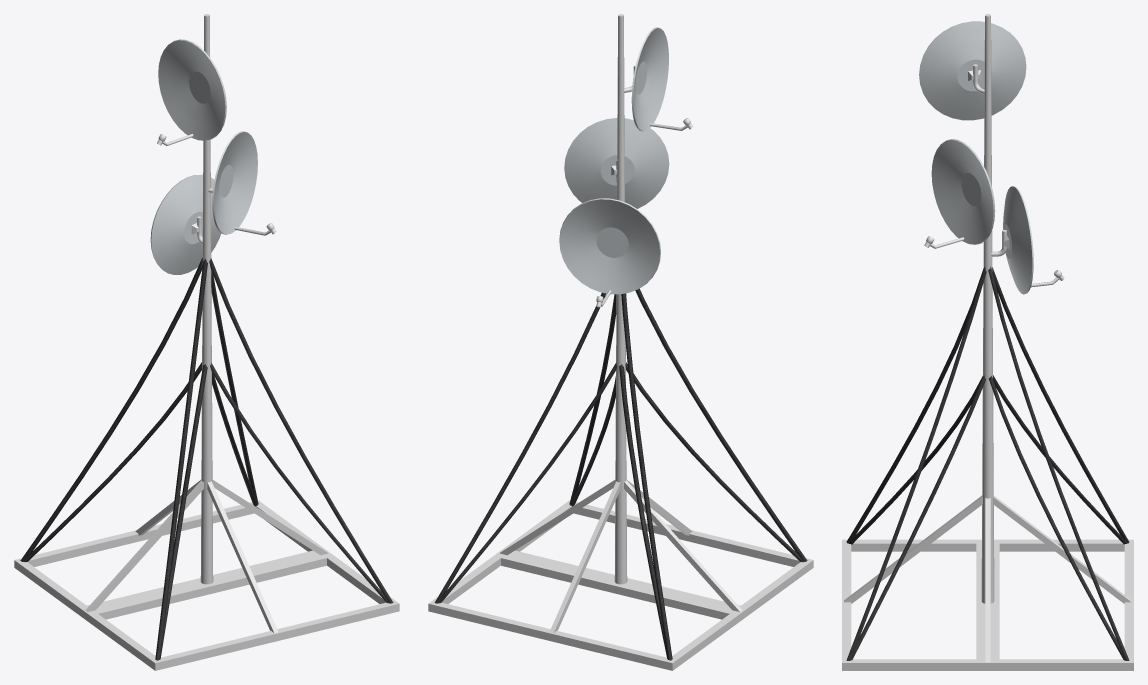
File: KB3D_NTT_RooftopPart_I.fbx
The picture shows the model from 3 angles, left to right: view 1: azimuth 30°, elevation 25°; view 2: azimuth 150°, elevation 25°; view 3: azimuth 270°, elevation 25°; orthographic projection. The views are drawn at different scales.
Parts seen in each view (by area): view 1: KB3D_NTT_RooftopPart_I_Main; view 2: KB3D_NTT_RooftopPart_I_Main; view 3: KB3D_NTT_RooftopPart_I_Main.
Boxes of the visible parts, left/top/right/bottom form: KB3D_NTT_RooftopPart_I_Main: left=14, top=14, right=399, bottom=670; KB3D_NTT_RooftopPart_I_Main: left=428, top=14, right=813, bottom=670; KB3D_NTT_RooftopPart_I_Main: left=842, top=14, right=1133, bottom=670.
Bounding box in the file's own units: 850 × 1909 × 850.
